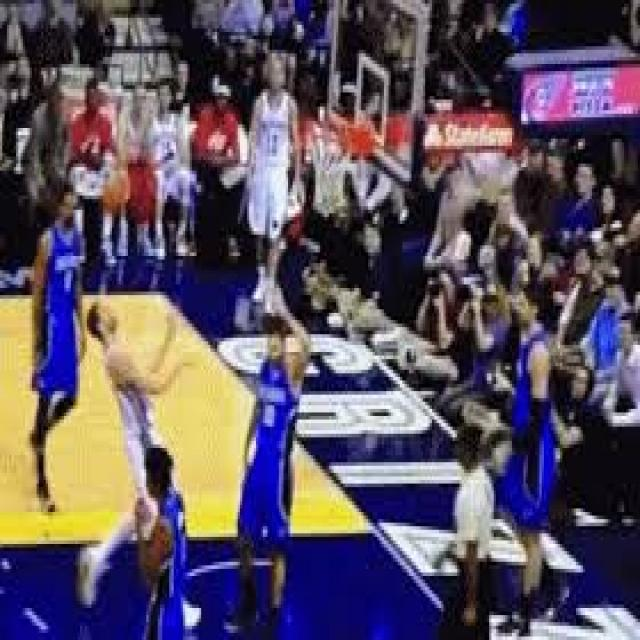rim: (102, 167, 130, 213)
